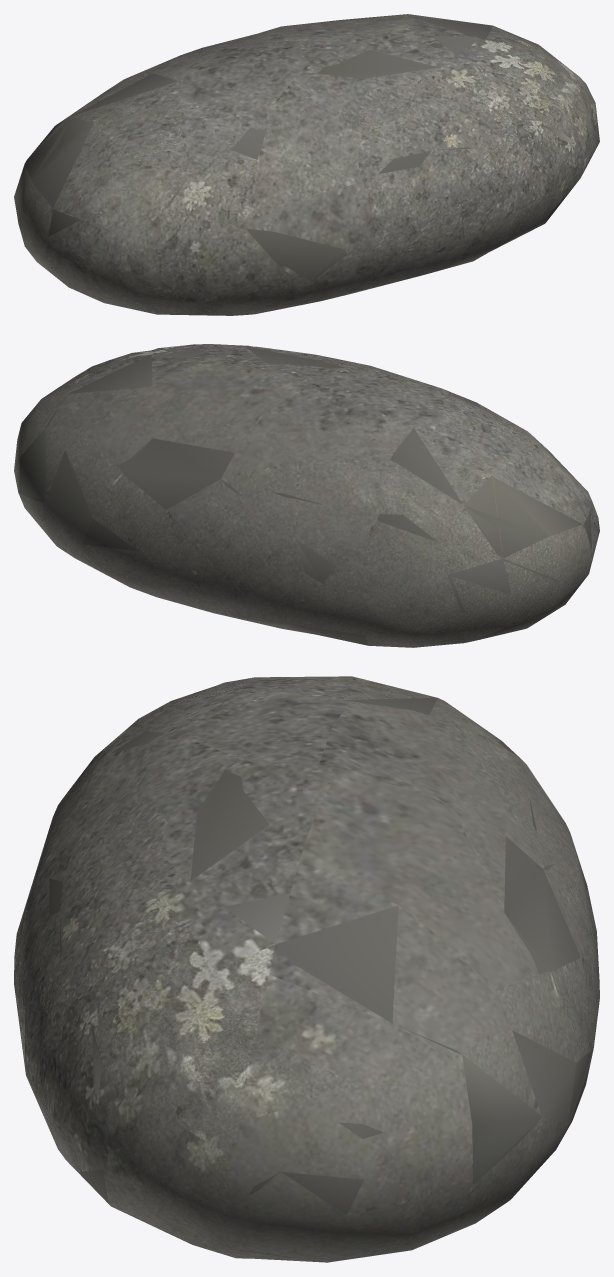
File: canto.glb
3 renders of one model, top to bottom at view 1: azimuth 30°, elevation 25°; view 2: azimuth 150°, elevation 25°; view 3: azimuth 270°, elevation 25°, orthographic. The views are drawn at different scales.
Visible parts, largest first — view 1: cerca, medio; view 2: cerca, medio, lejos; view 3: cerca, medio, lejos.
Boxes of the visible parts, left/top/right/bottom form: cerca: left=14, top=14, right=599, bottom=314; medio: left=18, top=15, right=576, bottom=315; cerca: left=14, top=344, right=599, bottom=647; medio: left=19, top=346, right=591, bottom=645; lejos: left=19, top=386, right=547, bottom=583; cerca: left=14, top=676, right=599, bottom=1262; medio: left=24, top=698, right=593, bottom=1215; lejos: left=229, top=697, right=587, bottom=1262.
Bounding box in the file's own units: 2.39 × 0.853 × 1.35.
2 materials, 1 textured.
